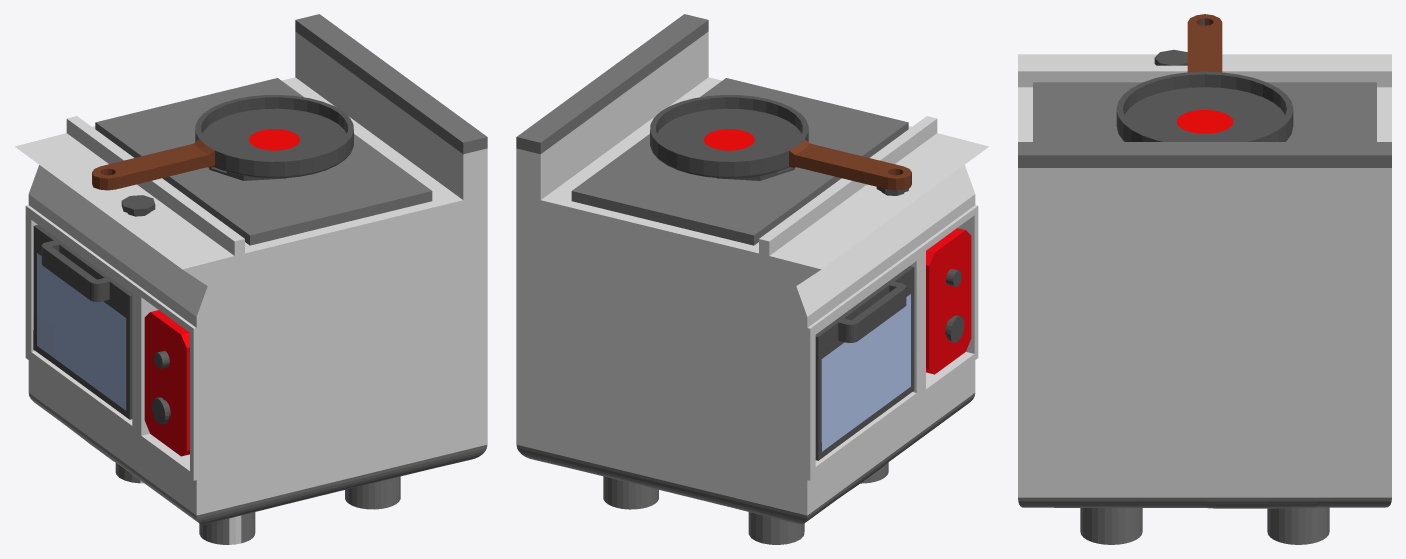
Rendered from Stove_Station_Interacted.fbx.
3 renders of one model, left to right at view 1: azimuth 30°, elevation 25°; view 2: azimuth 150°, elevation 25°; view 3: azimuth 270°, elevation 25°, orthographic. The views are drawn at different scales.
Parts seen in each view (by area): view 1: Stove, Frying Pan; view 2: Stove, Frying Pan; view 3: Stove, Frying Pan.
Part boxes in pixels (x1=…): Stove: x1=15, y1=14, x2=487, y2=544; Frying Pan: x1=92, y1=95, x2=353, y2=190; Stove: x1=516, y1=14, x2=988, y2=544; Frying Pan: x1=650, y1=95, x2=911, y2=190; Stove: x1=1018, y1=49, x2=1391, y2=544; Frying Pan: x1=1116, y1=14, x2=1293, y2=141.
Size of the model in its own units: 213 by 246 by 200.
